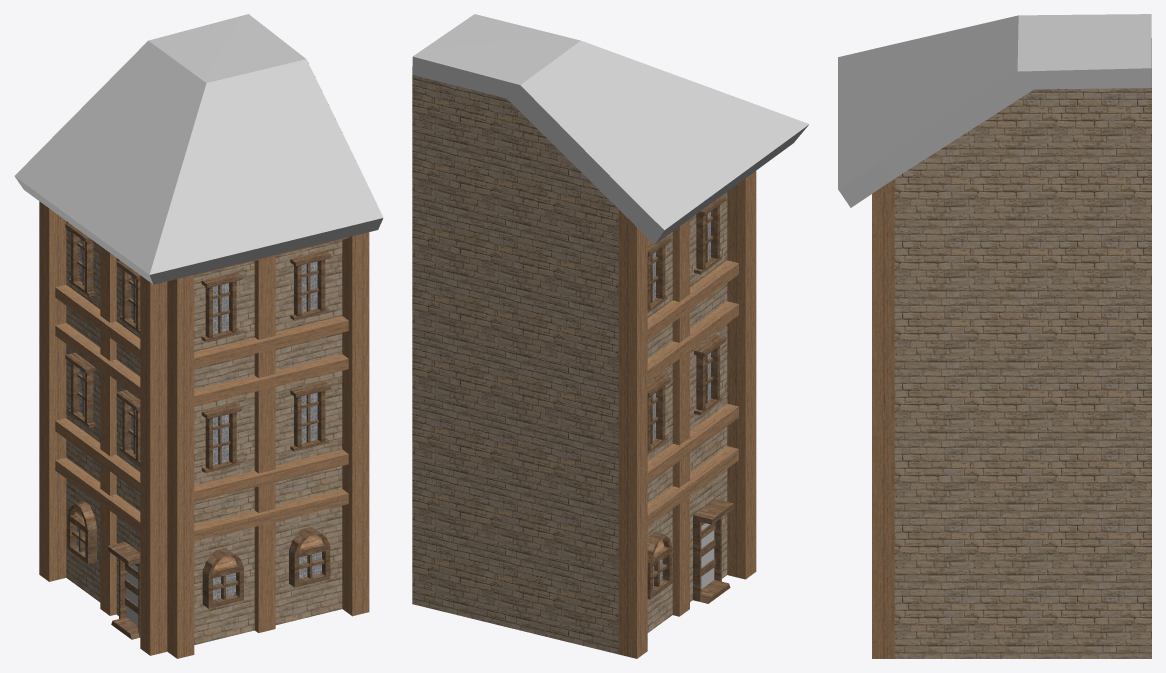
Rendered from Townhouse_corner2.fbx.
3 views of the same model, side by side, from view 1: azimuth 30°, elevation 25°; view 2: azimuth 150°, elevation 25°; view 3: azimuth 270°, elevation 25° (orthographic). The views are drawn at different scales.
Parts seen in each view (by area): view 1: townhouse_corner2; view 2: townhouse_corner2; view 3: townhouse_corner2.
Boxes of the visible parts, <box> form: townhouse_corner2: <box>14,14,383,658</box>; townhouse_corner2: <box>412,14,809,658</box>; townhouse_corner2: <box>838,14,1151,658</box>.
Bounding box in the file's own units: 36.62 × 76.07 × 36.61.
